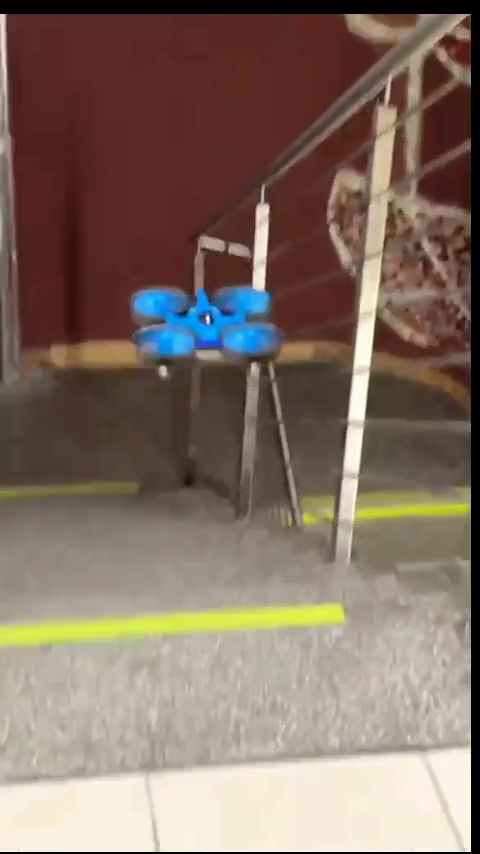drone: (124, 287, 283, 379)
